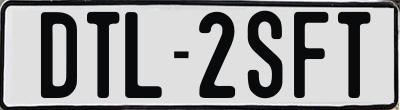2: (198, 10, 237, 100)
D: (38, 9, 74, 95)
F: (294, 11, 334, 98)
L: (123, 10, 164, 99)
S: (248, 11, 284, 98)
T: (85, 12, 120, 99), (335, 11, 370, 98)
